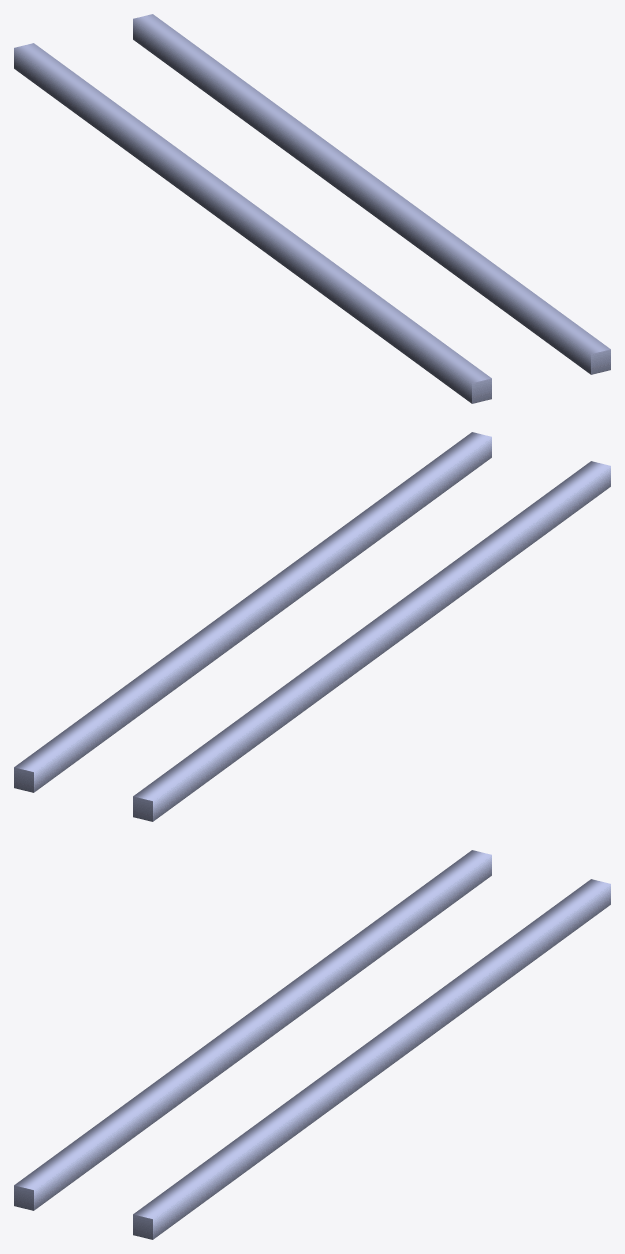
File: railroad-rail-straight.glb
3 views of the same model, one above another, from view 1: azimuth 30°, elevation 25°; view 2: azimuth 150°, elevation 25°; view 3: azimuth 330°, elevation 25° (orthographic).
Parts seen in each view (by area): view 1: railroad-rail-straight; view 2: railroad-rail-straight; view 3: railroad-rail-straight.
Part boxes in pixels (x1,y1,x2,y2): railroad-rail-straight: [14, 14, 610, 403]; railroad-rail-straight: [14, 432, 610, 821]; railroad-rail-straight: [14, 850, 610, 1239].
Bounding box in the file's own units: 0.7 × 0.1 × 4.
Materials: 1 (1 with a texture image).
